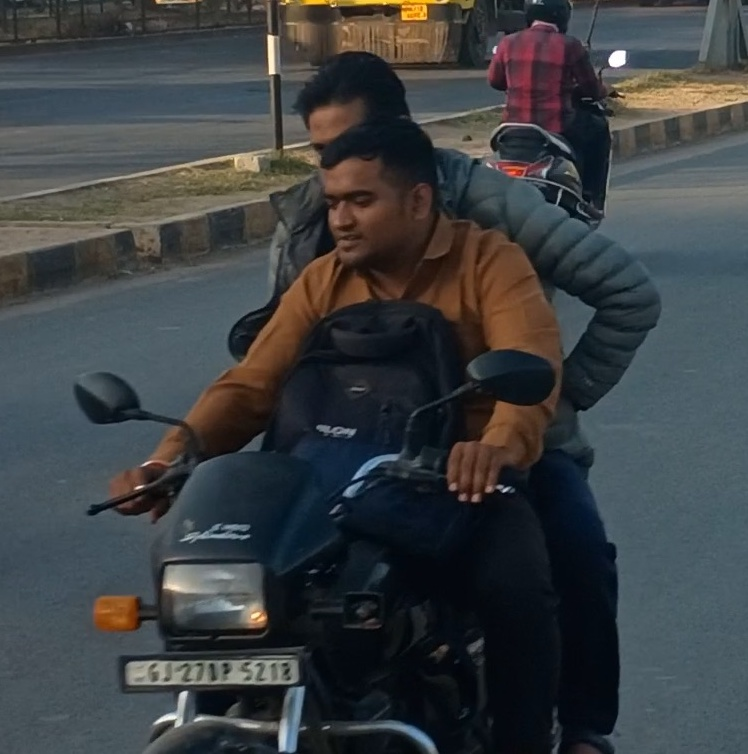BikeWithRider: (63, 42, 671, 753), (471, 0, 643, 250)
Helmet: (517, 0, 578, 38)
NoHelmet: (307, 114, 454, 274), (284, 45, 424, 179)
